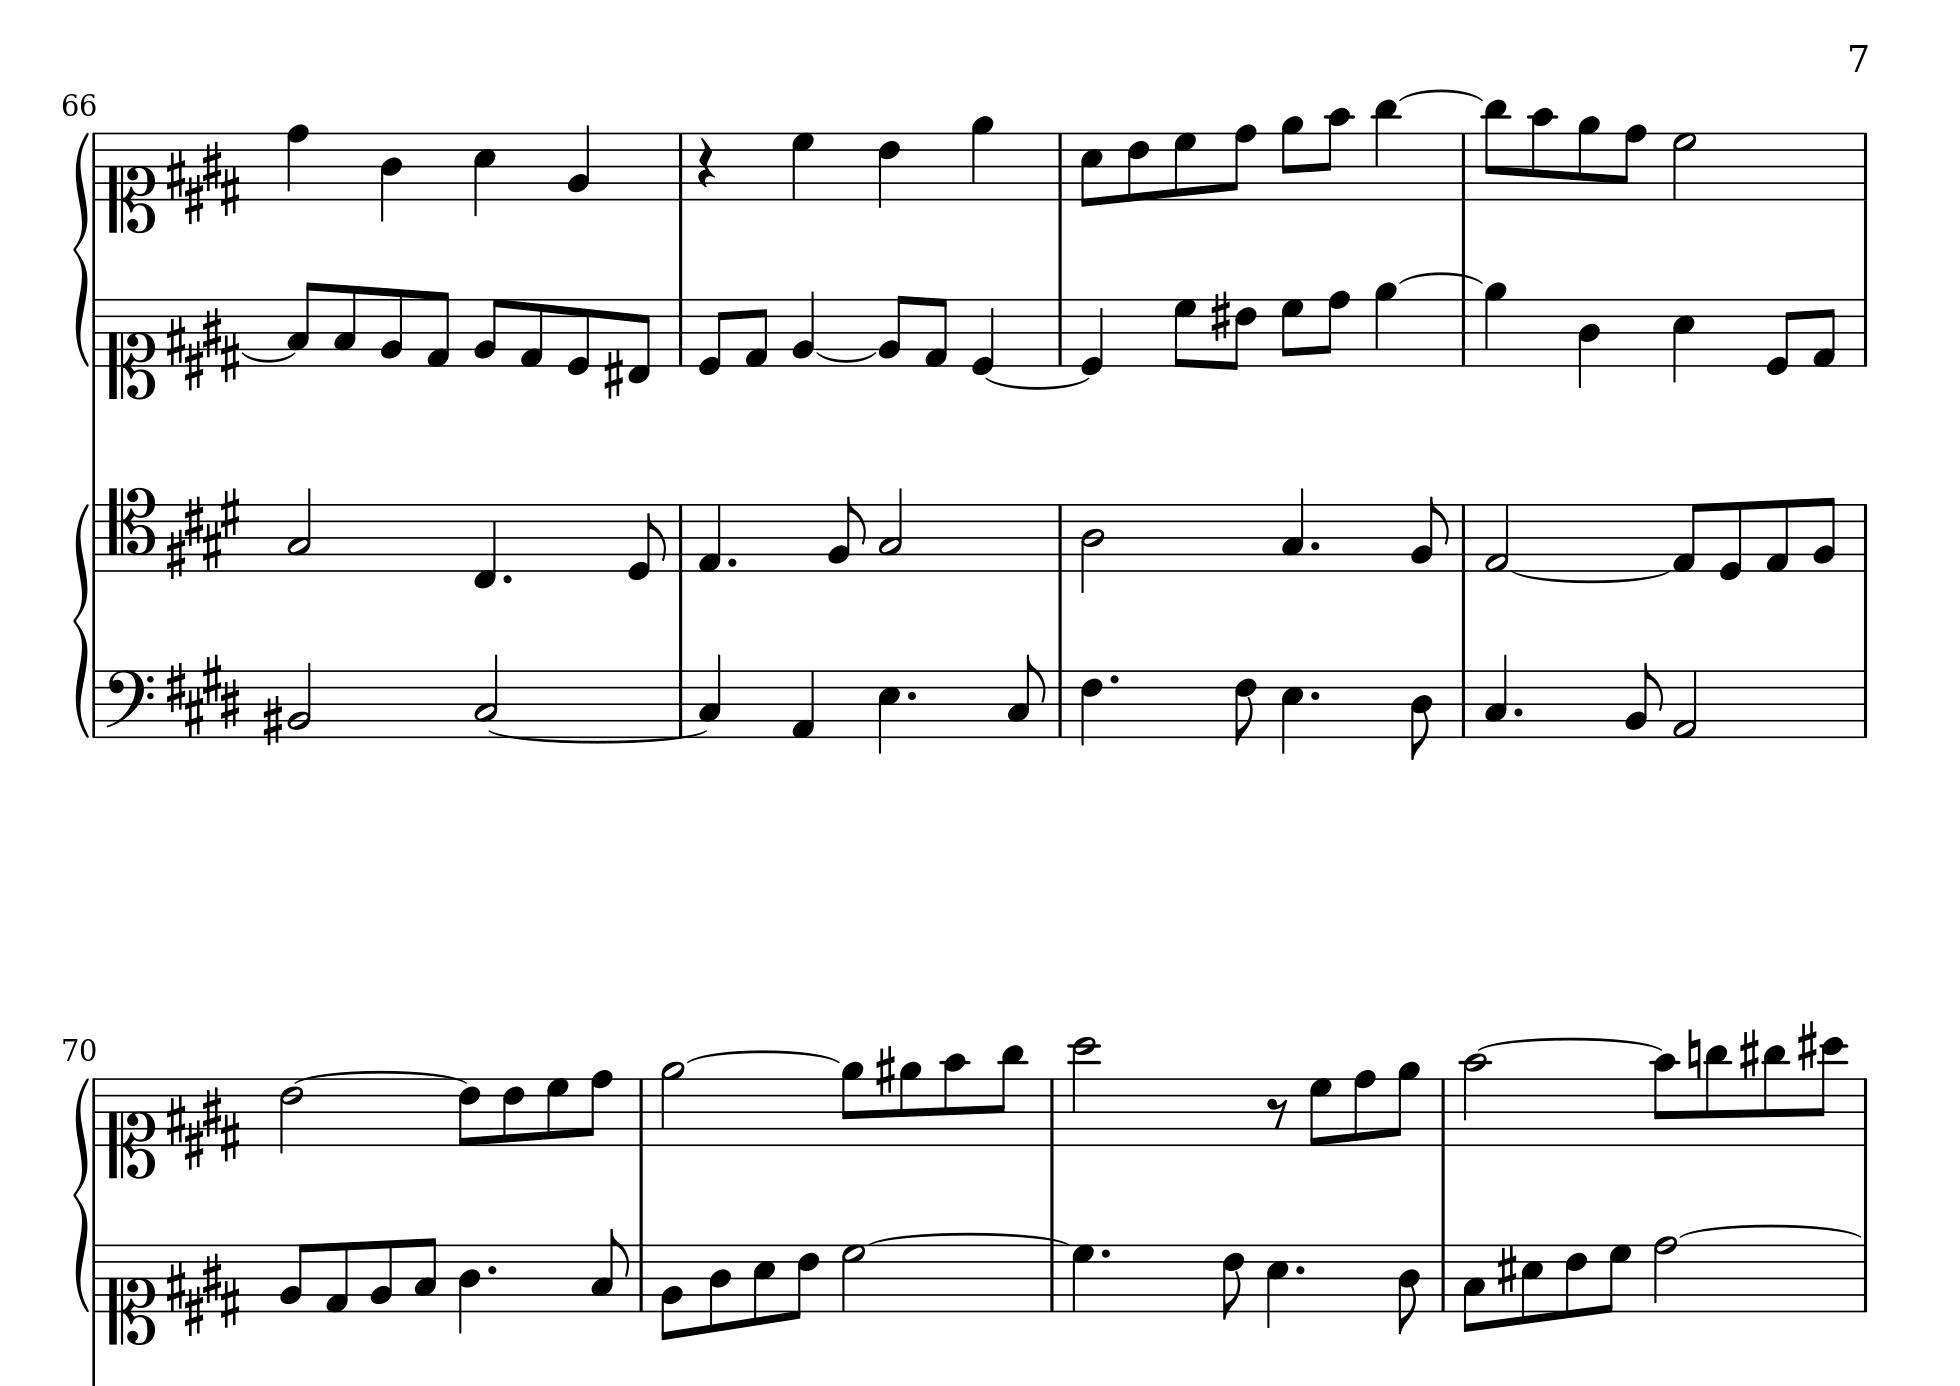0: (79, 1033, 96, 1063)
2_1: (1483, 501, 1512, 573), (1671, 667, 1698, 738)
2_10: (1461, 1048, 1489, 1144)
2_12: (1068, 1033, 1101, 1147)
2_2: (877, 487, 904, 570), (286, 487, 312, 570), (286, 661, 312, 736)
2_3: (472, 652, 499, 736)
2_4: (1080, 499, 1105, 589)
2_6: (279, 1075, 301, 1153)
2_7: (1653, 1233, 1677, 1312), (838, 1242, 865, 1312), (1671, 130, 1696, 201)
2_9: (658, 1059, 682, 1147)
4_0: (1080, 295, 1107, 376), (970, 297, 996, 376)
4_1: (790, 669, 816, 739), (697, 502, 721, 573)
4_11: (1372, 96, 1399, 202)
4_2: (567, 121, 592, 201), (790, 289, 816, 367)
4_3: (1483, 652, 1509, 739), (697, 652, 721, 738), (1281, 487, 1305, 571)
4_4: (1576, 297, 1602, 388), (379, 130, 403, 220), (457, 1243, 481, 1333)
4_5: (1671, 297, 1696, 385), (876, 667, 901, 756), (472, 130, 496, 217), (1281, 667, 1305, 754), (1266, 1242, 1290, 1327)
4_6: (877, 130, 901, 208), (1080, 667, 1104, 742)
4_7: (1071, 1242, 1096, 1312), (790, 130, 814, 199)
4_8: (286, 121, 309, 201)
4_9: (1374, 280, 1398, 367), (970, 114, 993, 202), (1483, 279, 1506, 367)
6: (79, 91, 97, 117), (61, 91, 79, 115)
7: (1848, 37, 1870, 72), (61, 1035, 78, 1063)
8_-1: (471, 501, 498, 589), (628, 297, 654, 385)
8_0: (628, 502, 666, 582), (1765, 297, 1797, 378), (697, 297, 729, 376), (1717, 499, 1744, 582), (565, 295, 592, 376)
8_1: (1671, 501, 1705, 573), (424, 289, 451, 369), (1764, 496, 1791, 573), (742, 295, 769, 369), (922, 295, 949, 369), (322, 1240, 349, 1314), (517, 295, 544, 367), (1812, 297, 1837, 369)
8_10: (1320, 106, 1351, 201), (1530, 105, 1555, 201), (942, 1051, 967, 1147), (1653, 1051, 1677, 1146)
8_11: (993, 1041, 1026, 1147), (1704, 1039, 1731, 1147), (1483, 96, 1510, 201), (1762, 1041, 1788, 1147)
8_12: (1813, 1030, 1846, 1146)
8_2: (826, 495, 865, 571), (1410, 495, 1449, 571), (1624, 661, 1663, 736), (658, 1242, 684, 1342), (472, 295, 504, 367), (877, 292, 907, 367), (279, 1242, 310, 1312), (1812, 495, 1837, 573), (379, 286, 403, 367), (367, 1237, 393, 1312)
8_3: (589, 1227, 628, 1314), (1008, 652, 1047, 738), (286, 280, 319, 367), (1461, 1240, 1488, 1333), (331, 283, 358, 369), (412, 1234, 436, 1312)
8_4: (1408, 667, 1434, 760), (1396, 1242, 1422, 1335), (708, 1243, 732, 1333)
8_5: (1519, 1242, 1545, 1324), (751, 1242, 775, 1324), (1080, 130, 1104, 208)
8_6: (787, 1242, 820, 1321), (1227, 297, 1258, 372), (1233, 667, 1258, 745), (1221, 1242, 1246, 1320), (1564, 1242, 1588, 1320), (1126, 130, 1152, 202), (501, 1075, 526, 1146), (457, 1075, 481, 1147)
8_7: (1602, 1240, 1632, 1312), (1173, 297, 1197, 369), (1281, 295, 1305, 367), (1308, 1075, 1332, 1147), (1173, 130, 1197, 201), (544, 1075, 568, 1146)
8_8: (1224, 121, 1257, 201), (580, 1066, 613, 1146), (1615, 121, 1647, 201), (1318, 289, 1350, 367), (1353, 1068, 1377, 1147)
8_9: (1390, 1060, 1420, 1147), (840, 1059, 864, 1147), (898, 1059, 922, 1147), (1281, 115, 1305, 201), (1578, 115, 1600, 201)
Brace: (70, 499, 91, 738), (72, 127, 91, 369), (73, 1077, 90, 1309)
E_S: (163, 486, 243, 577), (163, 304, 241, 391), (165, 136, 241, 223), (165, 1084, 241, 1170), (165, 1249, 241, 1335)
Fclef: (103, 667, 153, 738)
Natural: (1686, 1027, 1702, 1081)
Rests4: (694, 136, 717, 190)
Rests8: (1266, 1095, 1290, 1129)
Sharp: (1495, 1242, 1518, 1297), (1209, 289, 1231, 343), (603, 346, 624, 400), (874, 1042, 895, 1096), (1797, 1018, 1818, 1072), (1738, 1027, 1759, 1080), (262, 694, 282, 745)
Single_barline: (1455, 133, 1473, 199), (1455, 298, 1473, 364), (672, 670, 690, 736), (672, 298, 688, 366), (672, 504, 688, 571), (1455, 504, 1471, 571), (1053, 670, 1069, 736), (1857, 670, 1873, 736), (1044, 1078, 1060, 1144), (633, 1243, 649, 1309), (1857, 133, 1873, 198), (1857, 1246, 1873, 1311), (1044, 1246, 1060, 1309), (88, 502, 103, 571), (1053, 298, 1068, 366), (1053, 504, 1068, 571), (88, 669, 103, 736), (1858, 1077, 1873, 1144), (1053, 132, 1068, 198), (673, 133, 688, 199), (634, 1078, 649, 1144), (1437, 1078, 1452, 1144), (1437, 1243, 1452, 1309), (88, 298, 102, 367), (1858, 502, 1872, 571), (88, 1243, 102, 1312), (1858, 298, 1872, 366), (1456, 670, 1470, 736), (88, 133, 100, 199), (88, 1078, 100, 1144)
Slur: (288, 1066, 466, 1087), (484, 727, 705, 744), (871, 1230, 1077, 1246), (1468, 1035, 1668, 1051), (1674, 1222, 1857, 1237), (682, 1050, 837, 1066), (1509, 571, 1668, 583), (985, 376, 1089, 388), (1399, 271, 1482, 286), (1398, 88, 1483, 100), (240, 349, 298, 361), (814, 351, 879, 361)
Soprano_Cclef: (106, 297, 156, 399), (106, 1240, 154, 1345), (106, 130, 154, 232), (106, 1075, 154, 1177)
Tensor_Cclef: (106, 486, 156, 570)
dot: (1107, 670, 1122, 687), (724, 553, 739, 568), (484, 1261, 499, 1276), (1308, 688, 1323, 702), (1099, 1245, 1113, 1260), (1293, 1261, 1308, 1275), (1308, 538, 1321, 552), (904, 688, 918, 702), (1512, 703, 1524, 718), (501, 571, 513, 583)
